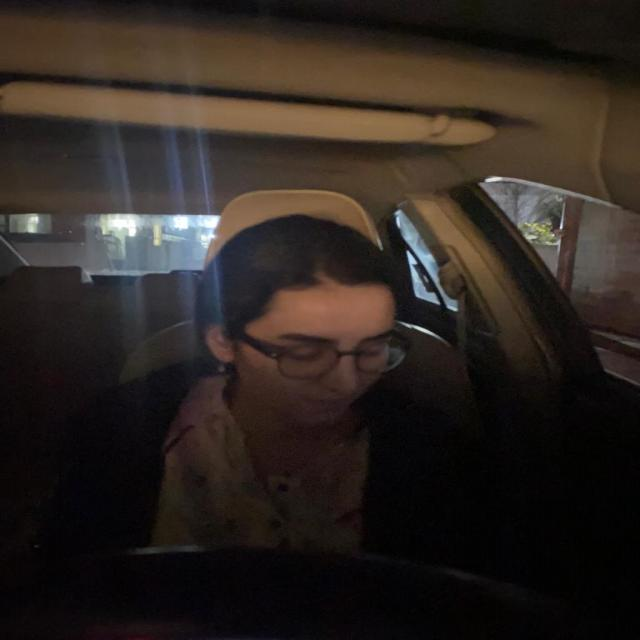drowsy: (196, 211, 420, 441)
